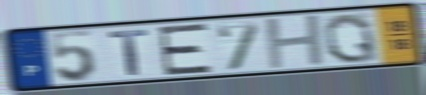5: (49, 28, 98, 84)
7: (216, 20, 262, 72)
E: (155, 21, 215, 77)
H: (262, 12, 329, 72)
Q: (321, 11, 381, 65)
T: (106, 27, 150, 77)
